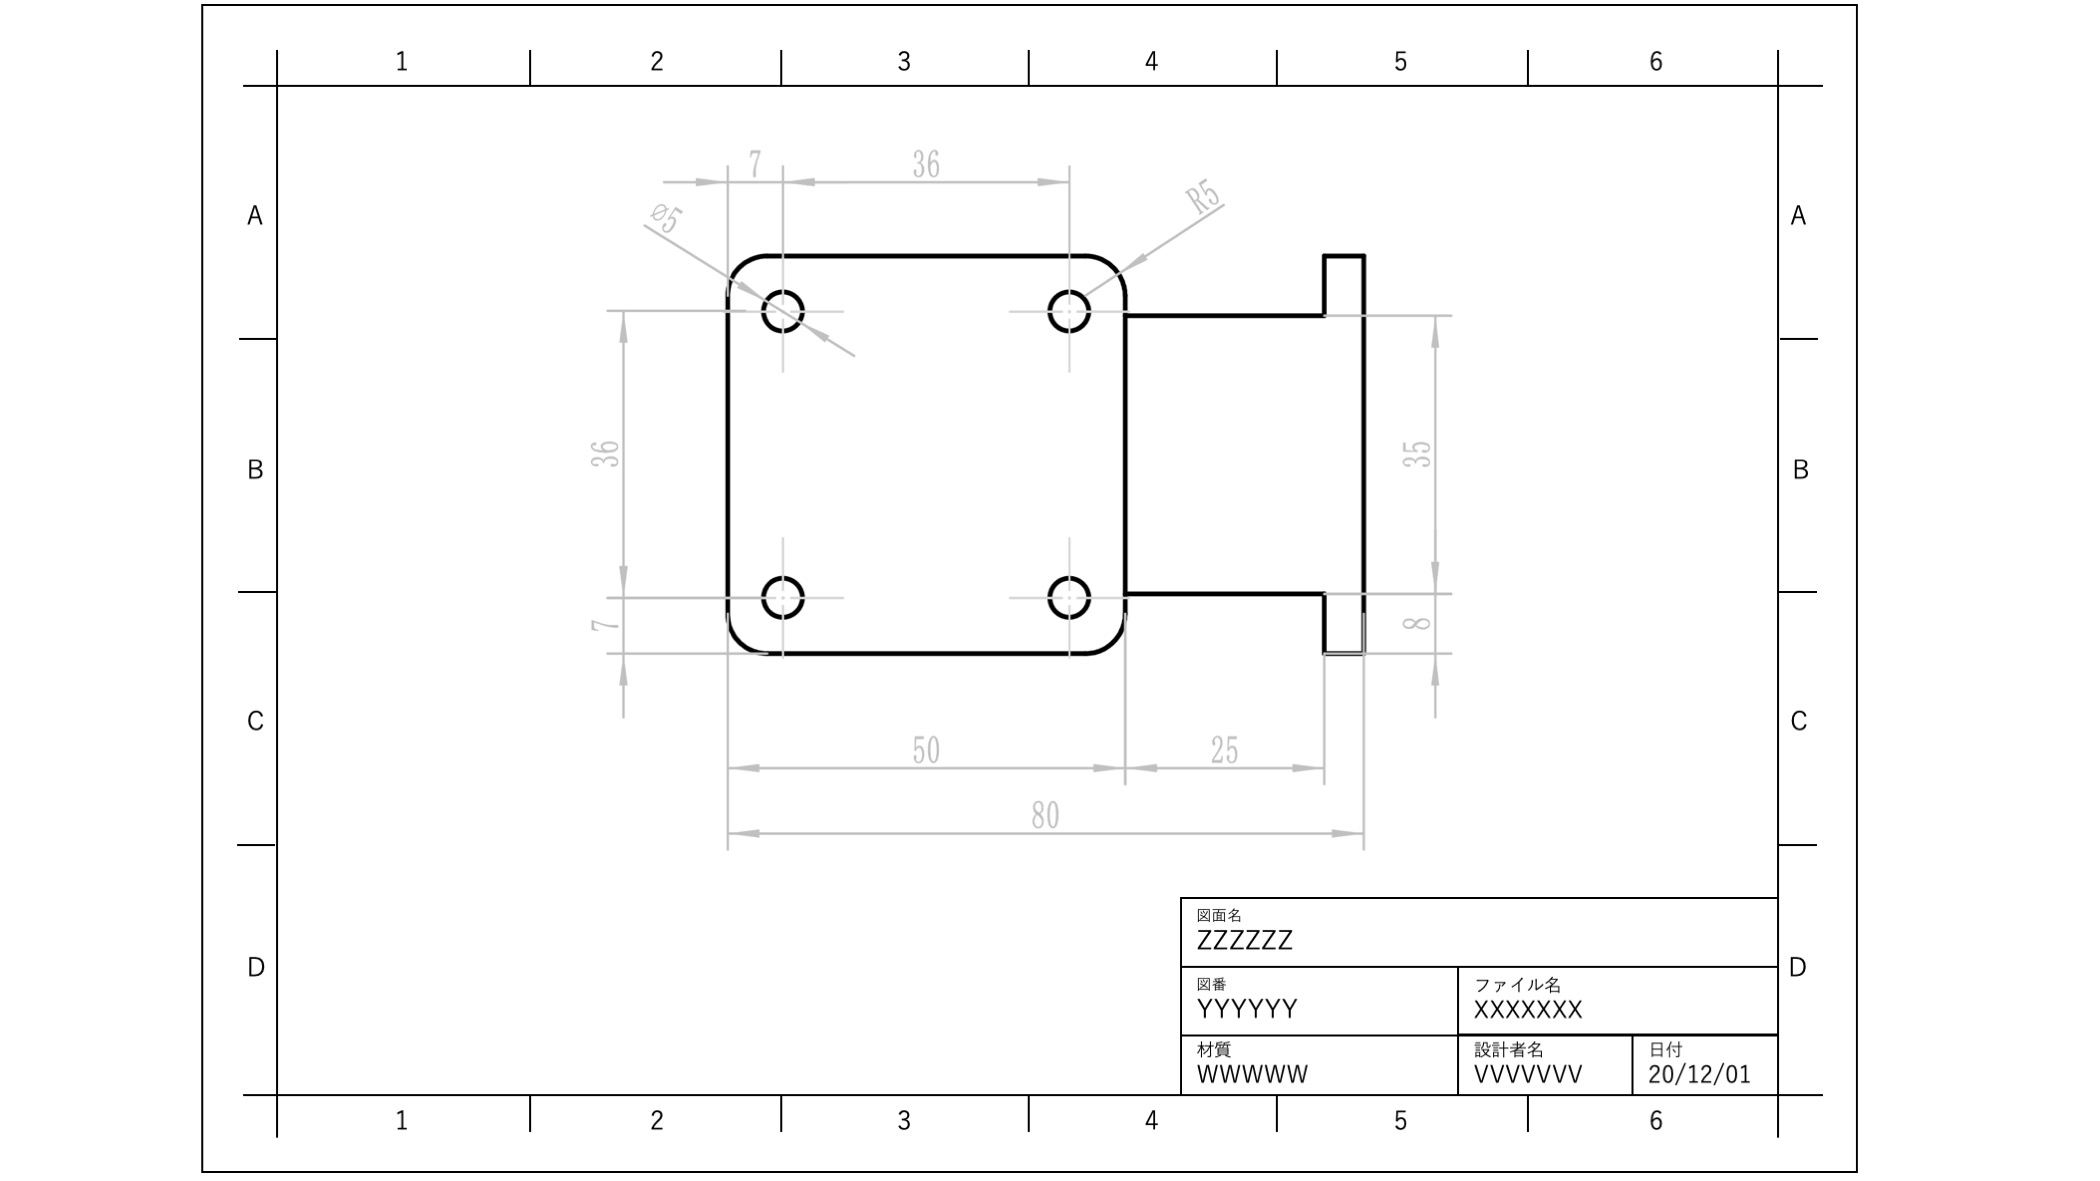circle: (750, 562, 816, 624), (754, 281, 813, 339), (1044, 283, 1102, 339), (1041, 571, 1099, 622)
